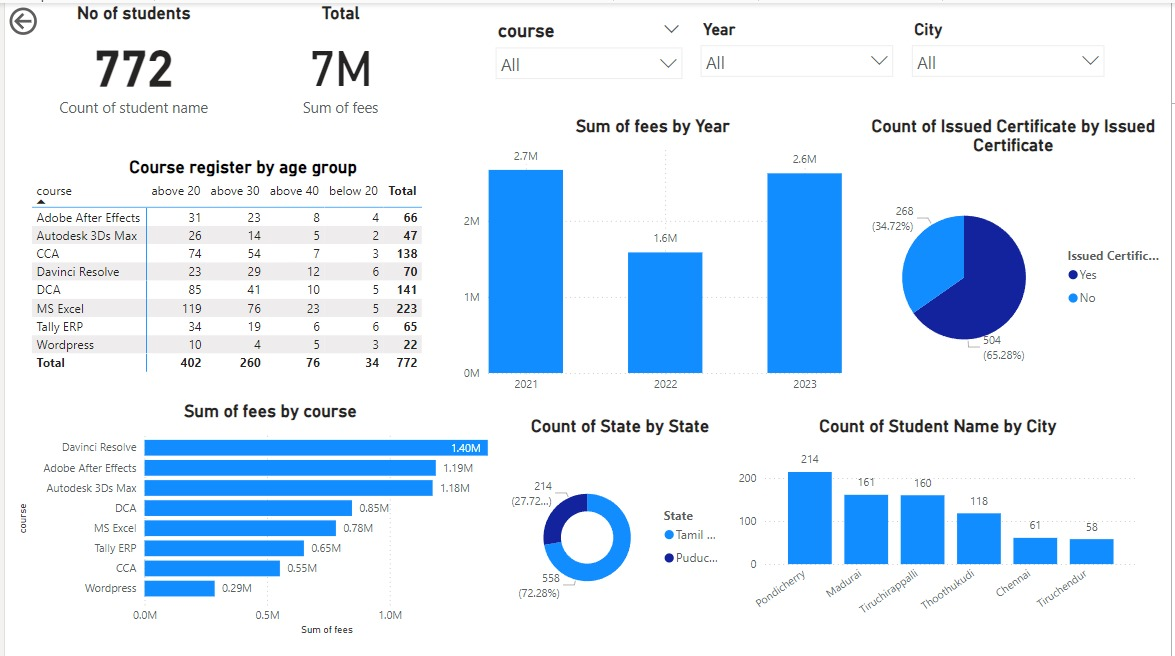

The dashboard page shown, as its layout file describes it:
{"tool":"powerbi","page":{"name":"Student DashBoard","canvas":[1280,720],"ordinal":0},"visuals":[{"type":"card","title":"No of students","fields":{"Values":["Student Course Details.student name"]},"box":[9.6,0,263.5,130.4],"z":0},{"type":"card","title":"Total","fields":{"Values":["Student Course Details.fees"]},"box":[237.4,0,262.1,130.4],"z":1},{"type":"actionButton","box":[0,0,100,40],"z":3},{"type":"pivotTable","title":"Course register by age group","fields":{"Columns":["Student Course Details.age group"],"Rows":["Student Course Details.course"],"Values":["Student Course Details.student name"]},"box":[25,168.3,473.3,268.3],"z":4},{"type":"clusteredBarChart","fields":{"Category":["Student Course Details.course"],"Y":["Student Course Details.fees"]},"box":[10,436.7,563.3,263.3],"z":5},{"type":"lineClusteredColumnComboChart","fields":{"Y":["Student Course Details.fees"],"Category":["Student Course Details.date of join.Variation.Date Hierarchy.Year"]},"box":[498.6,122.9,425.7,312.9],"z":6},{"type":"pieChart","fields":{"Category":["Table2.Issued Certificate"],"Y":["Table2.Issued Certificate"]},"box":[935,123,345,313],"z":7},{"type":"columnChart","fields":{"Category":["Table2.City"],"Y":["Table2.Student Name"]},"box":[800,453.3,448.3,233.3],"z":8},{"type":"slicer","fields":{"Values":["Student Course Details.course"]},"box":[528.3,13.3,225,110],"z":9},{"type":"slicer","fields":{"Values":["Student Course Details.date of join.Variation.Date Hierarchy.Year"]},"box":[753.3,13.3,231.7,98.3],"z":10},{"type":"slicer","fields":{"Values":["Table2.City"]},"box":[985,13.3,231.7,85],"z":11},{"type":"donutChart","fields":{"Category":["Table2.State"],"Y":["Table2.State"]},"box":[550,453.3,250,246.7],"z":12}]}

Visuals, with their boxes in screenshot pixels (x1, y1, x2, y2), scaled from the page's 1280x720 canvas onto the 1175x656 screenshot:
"No of students" card: (9,0,251,119)
"Total" card: (218,0,459,119)
actionButton: (0,0,92,36)
"Course register by age group" pivotTable: (23,153,457,398)
clusteredBarChart - Student Course Details.course x Student Course Details.fees: (9,398,526,638)
lineClusteredColumnComboChart - Student Course Details.fees x Student Course Details.date of join.Variation.Date Hierarchy.Year: (458,112,848,397)
pieChart - Table2.Issued Certificate x Table2.Issued Certificate: (858,112,1174,397)
columnChart - Table2.City x Table2.Student Name: (734,413,1146,626)
slicer - Student Course Details.course: (485,12,692,112)
slicer - Student Course Details.date of join.Variation.Date Hierarchy.Year: (692,12,904,102)
slicer - Table2.City: (904,12,1117,90)
donutChart - Table2.State x Table2.State: (505,413,734,638)
